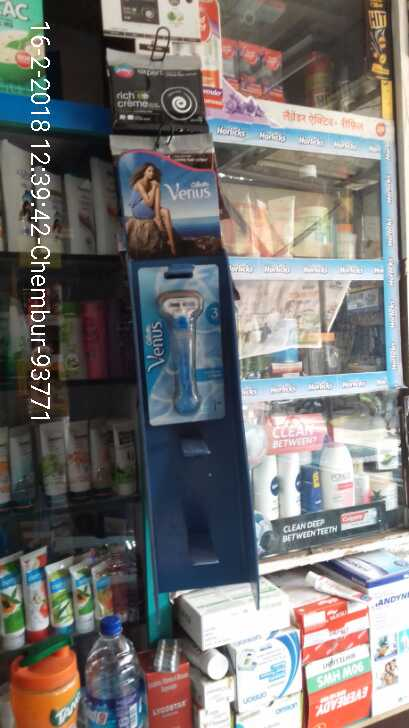venus: (140, 265, 223, 422)
